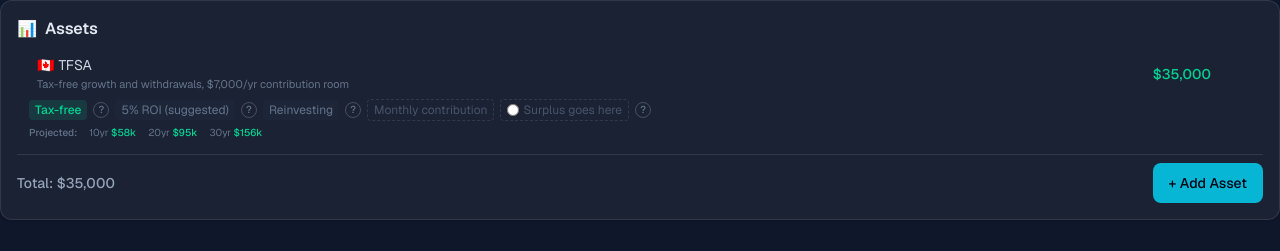
Test case: Asset ROI and contribution UI › allows editing monthly contribution via click
The width and height of the screenshot is (1280, 251).
Click the button with test id "contribution-badge-a1": click(431, 110) [367, 99, 494, 121]
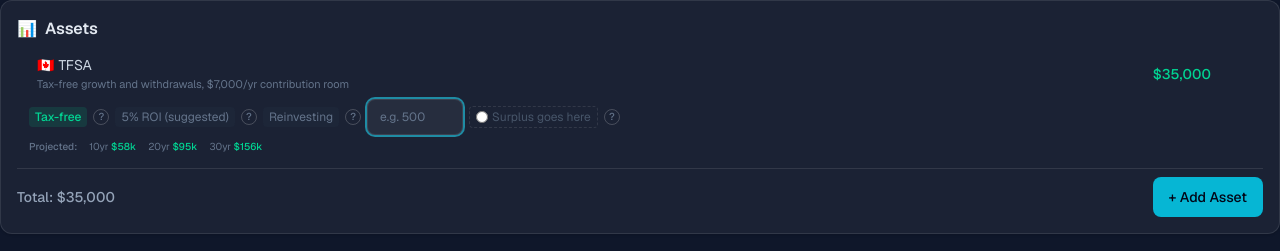
expect the field named "Edit monthly contribution for TFSA" is shown: met
In the field named "Edit monthly contribution for TFSA": (415, 117) [367, 99, 463, 135], type "500"
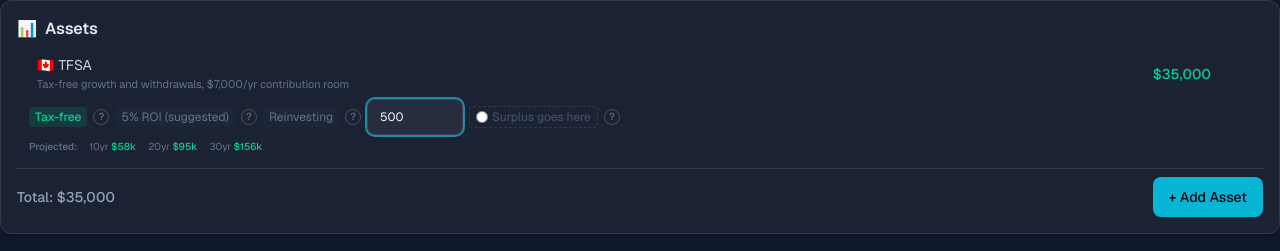
Press Enter
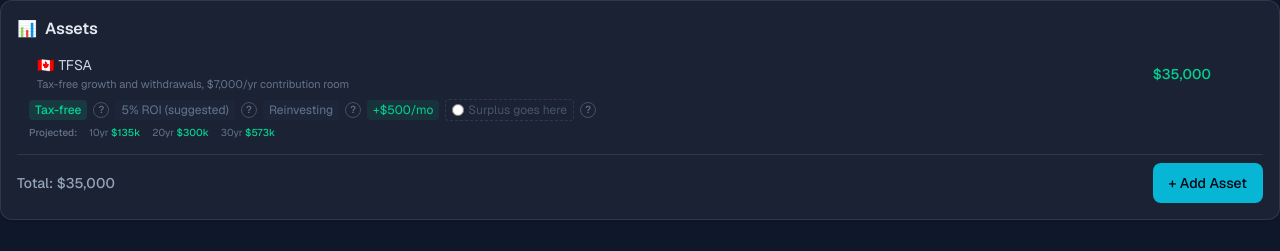
expect the button with test id "contribution-badge-a1" reads "+$500/mo": met, box [367, 100, 439, 120]
